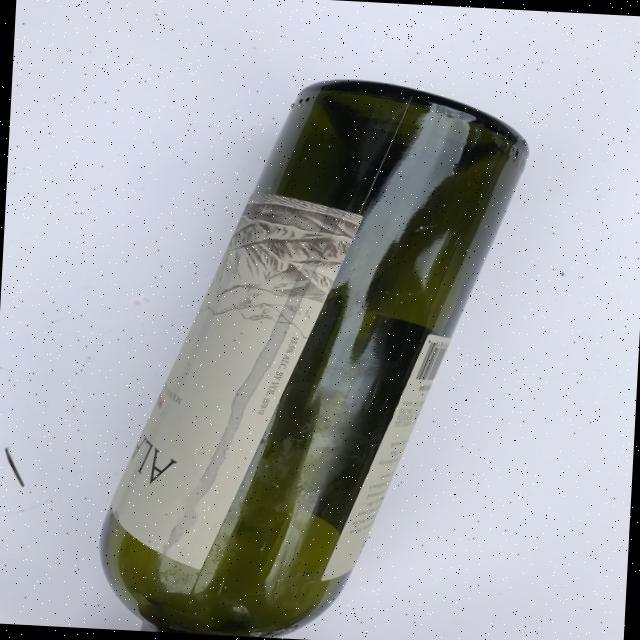glass: (93, 65, 532, 640)
